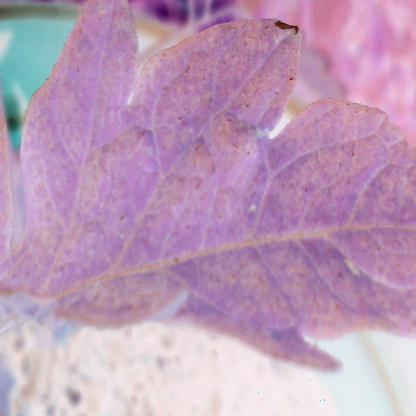Tomato mold leaf: (15, 7, 416, 392)
